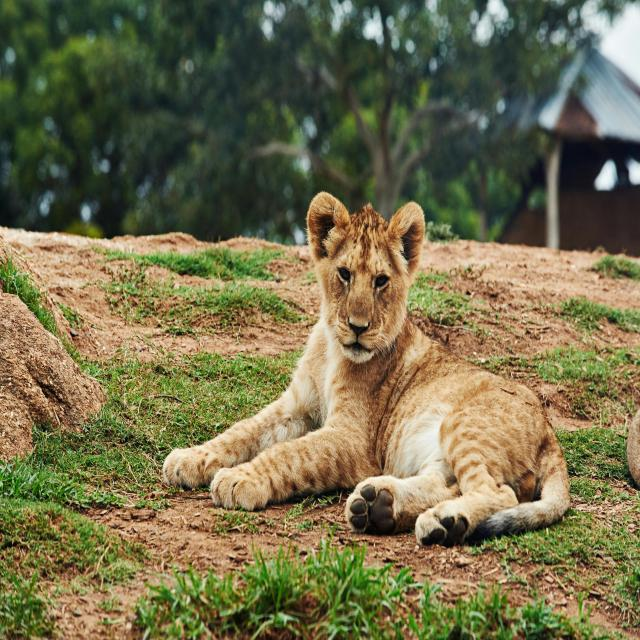Lion: (167, 190, 572, 544)
